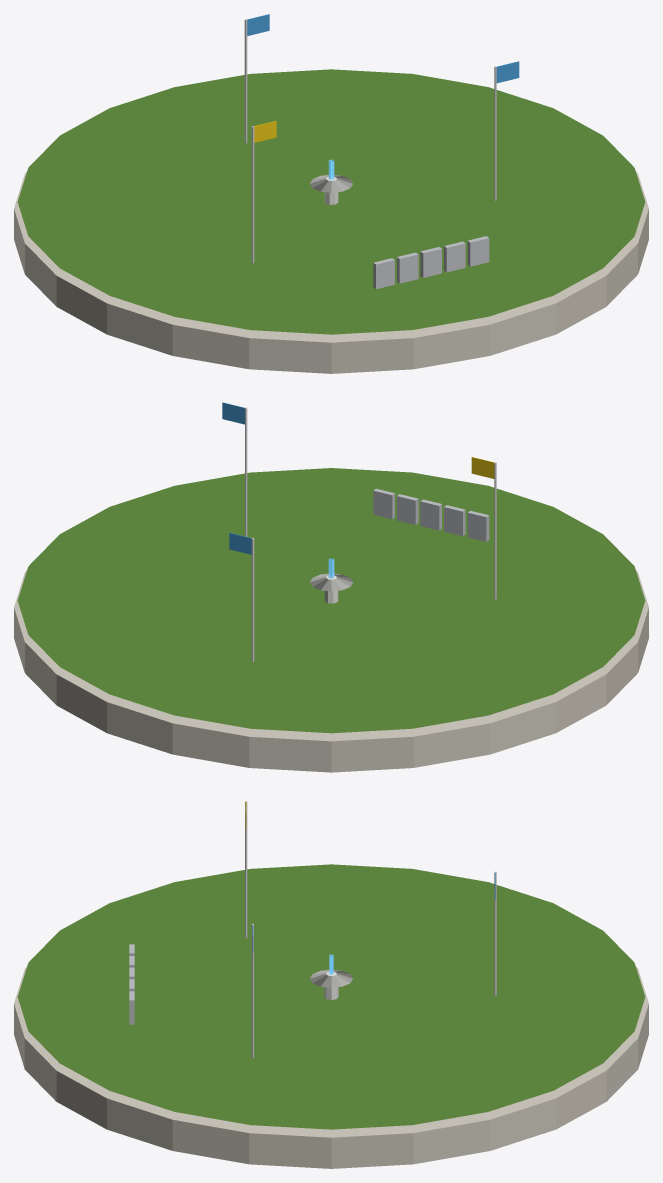
The model's file is rb_fountain2.glb.
3 renders of one model, top to bottom at view 1: azimuth 30°, elevation 25°; view 2: azimuth 150°, elevation 25°; view 3: azimuth 270°, elevation 25°, orthographic.
Visible parts, largest first — view 1: rb_fountain2_lod0; view 2: rb_fountain2_lod0; view 3: rb_fountain2_lod0.
Part boxes in pixels (x1,y1,x2,y2): rb_fountain2_lod0: (14,14,648,373); rb_fountain2_lod0: (14,402,648,772); rb_fountain2_lod0: (14,801,648,1168).
Size of what is drawn, in the model's own units: 35 by 10.58 by 35.
